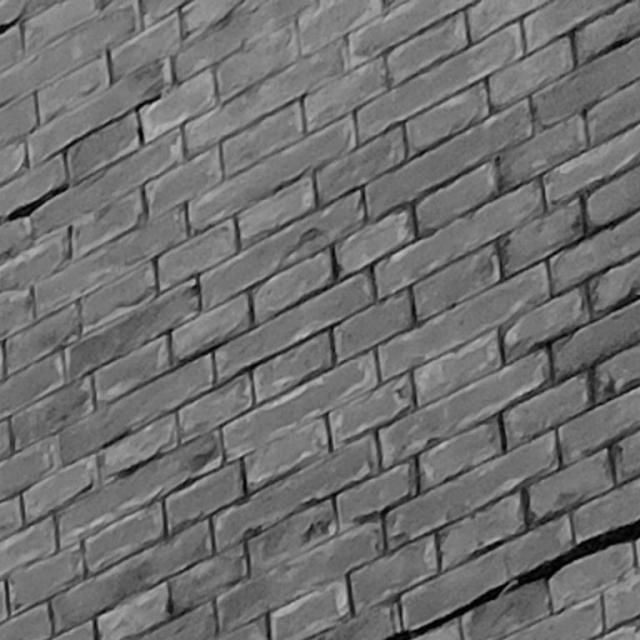crack: (386, 519, 639, 640)
